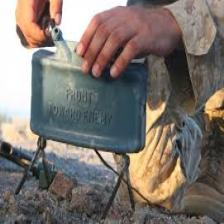MOH-50: (28, 40, 149, 155)
